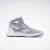shoe: (6, 13, 45, 39)
